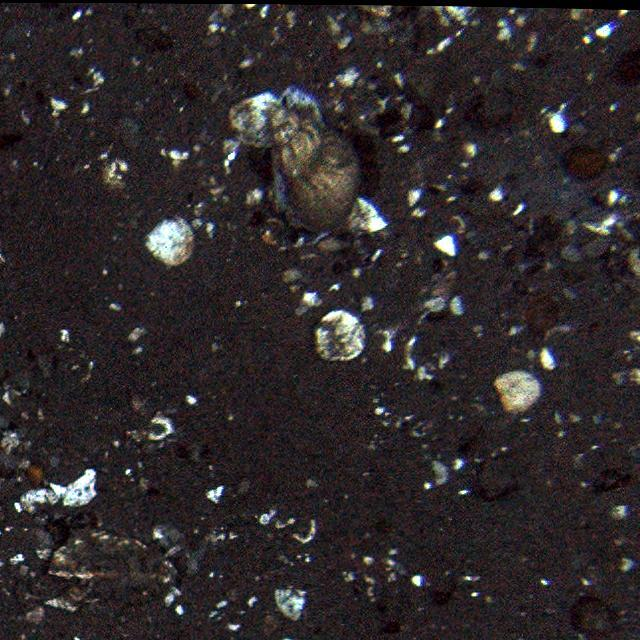whelk: (266, 103, 362, 235)
